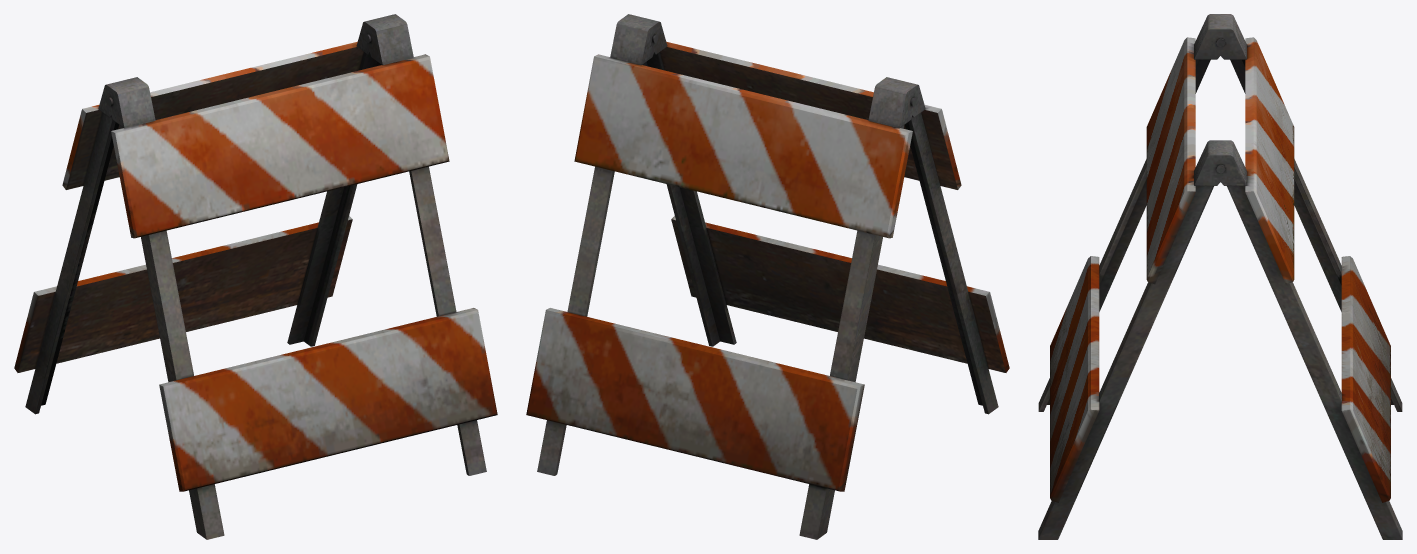
Rendered from barricade001a.glb.
3 renders of one model, left to right at view 1: azimuth 30°, elevation 25°; view 2: azimuth 150°, elevation 25°; view 3: azimuth 270°, elevation 25°, orthographic.
Visible parts, largest first — view 1: barricade001a; view 2: barricade001a; view 3: barricade001a.
Part boxes in pixels (box(x1,y1,x2,y2)): barricade001a: box(14, 14, 497, 539); barricade001a: box(526, 14, 1009, 539); barricade001a: box(1038, 14, 1402, 539).
Size of the model in its own units: 0.6856 by 0.8041 by 0.6866.
Materials: 1 (1 with a texture image).
